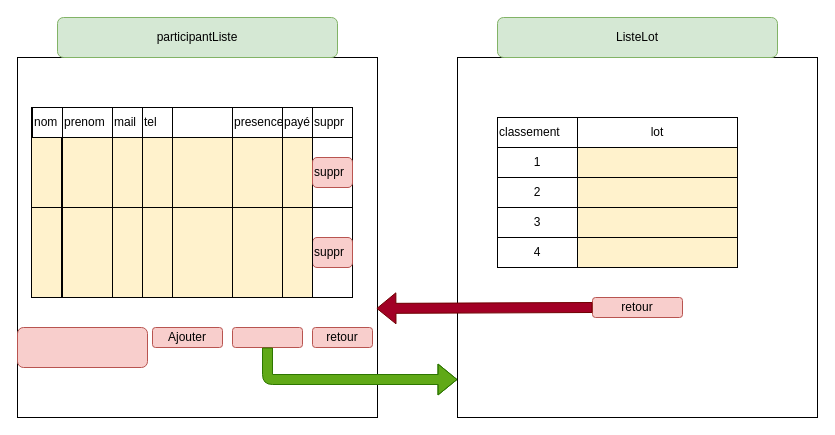
The diagram is 835 pixels wide and 435 high, and some of its shapes have lost their labels. The centre of each missing label's shape, as x and y in pixels:
"Ajouter une personne deja enregistrée" goes at pixel 82 347.
"liste des lots" goes at pixel 267 337.
"prevenu par mail" goes at pixel 202 122.
